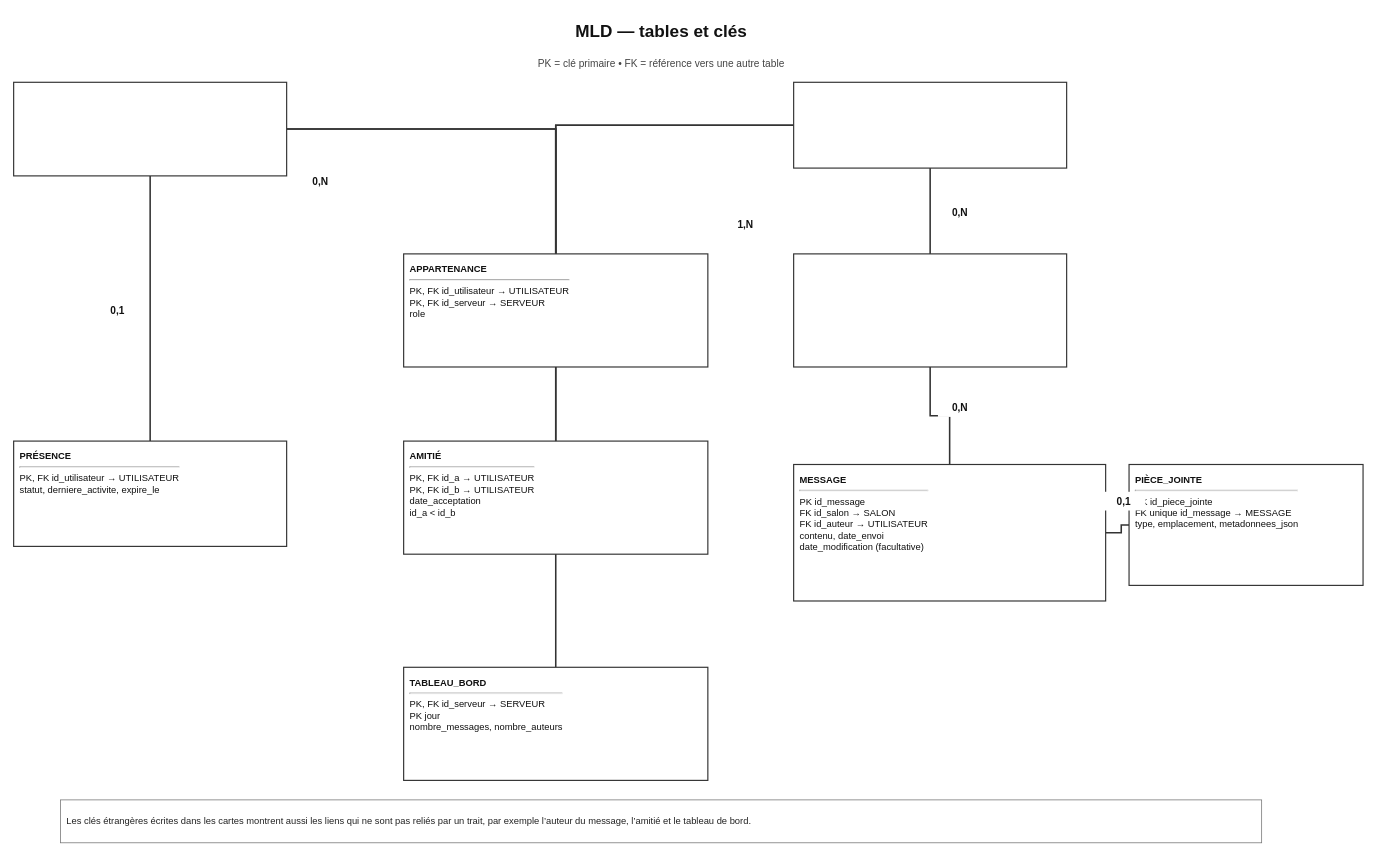
Some shapes in this 1377 by 856 pixel diagram are drawn without their labels. Here are the shapes that lost their labels. From the top down, the centre of each, then its label:
(150,128): UTILISATEUR PK id_utilisateur pseudo email (unique)
(930,124): SERVEUR PK id_serveur nom
(930,310): SALON PK id_salon FK id_serveur → SERVEUR nom, type UNIQUE(id_serveur, nom)
